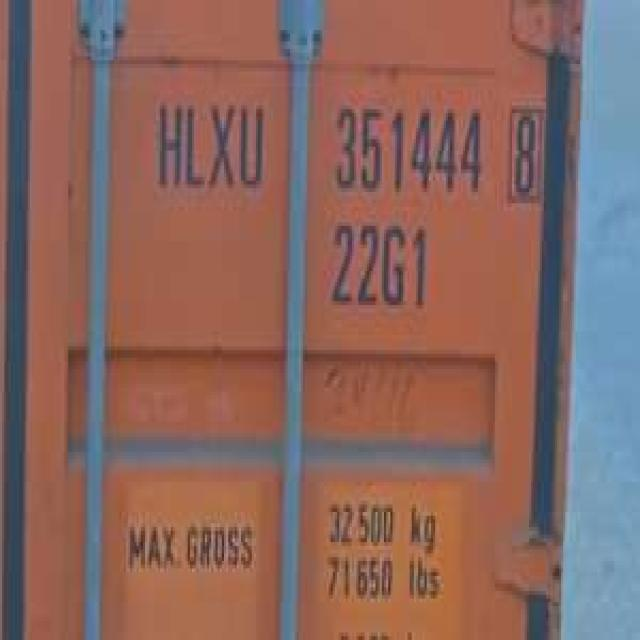dv: (501, 94, 546, 203)
owner: (151, 86, 269, 196)
serial: (326, 90, 484, 204)
size: (324, 211, 431, 320)
